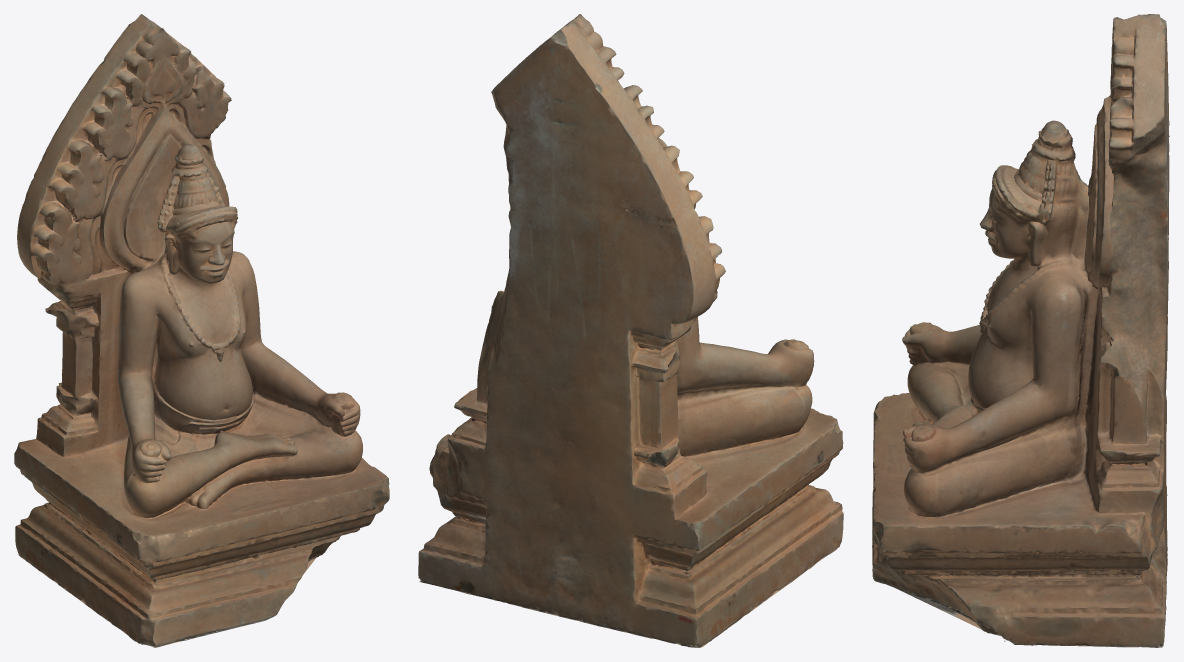
The model's file is preview.glb.
3 views of the same model, side by side, from view 1: azimuth 30°, elevation 25°; view 2: azimuth 150°, elevation 25°; view 3: azimuth 270°, elevation 25° (orthographic). The views are drawn at different scales.
Parts seen in each view (by area): view 1: Object_2; view 2: Object_2; view 3: Object_2.
Part boxes in pixels (<box>): Object_2: <box>14,14,389,647</box>; Object_2: <box>418,14,843,647</box>; Object_2: <box>872,14,1169,647</box>.
Size of the model in its own units: 0.5301 by 1.04 by 0.496.
1 material, 1 textured.
